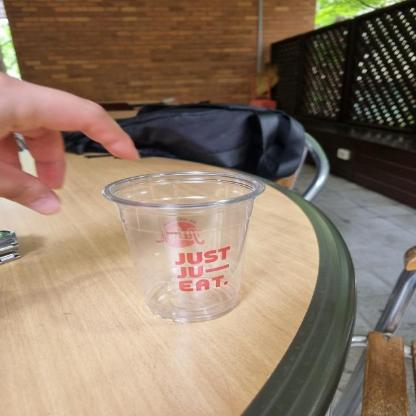Plastic Cup: (98, 166, 272, 328)
